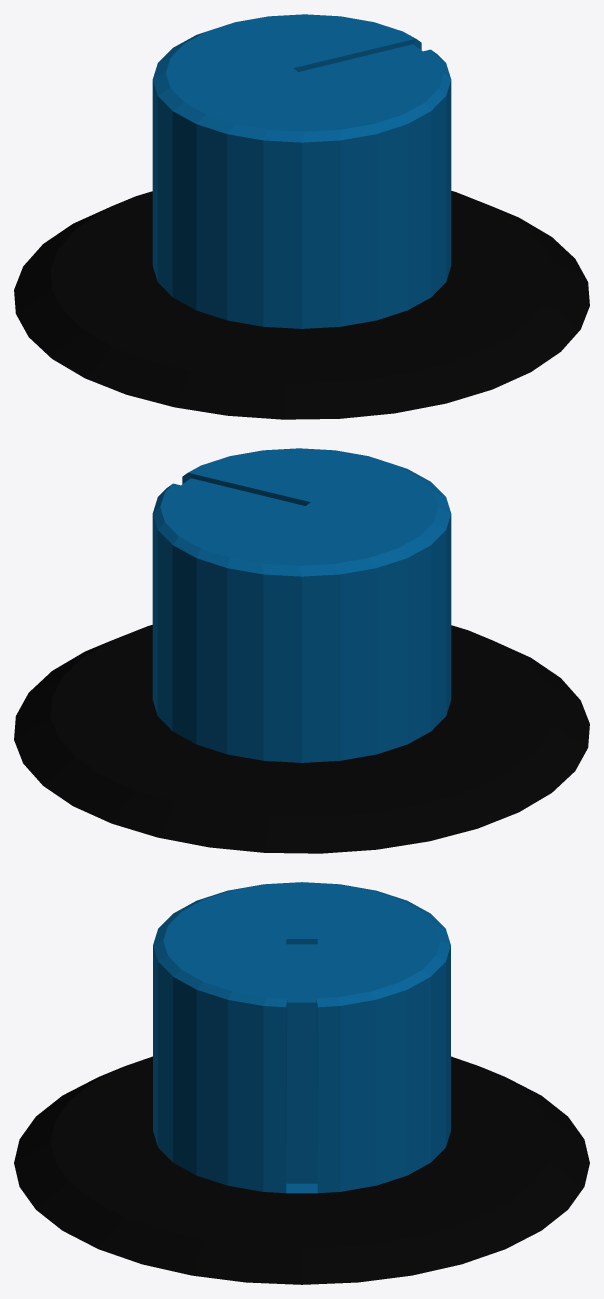
Rendered from props.fbx_reg5.fbx.
The picture shows the model from 3 angles, top to bottom: view 1: azimuth 30°, elevation 25°; view 2: azimuth 150°, elevation 25°; view 3: azimuth 270°, elevation 25°; orthographic projection.
Visible parts, largest first — view 1: Cylinder.014, Circle.030; view 2: Cylinder.014, Circle.030; view 3: Cylinder.014, Circle.030.
Part boxes in pixels (<box>): Cylinder.014: <box>152,14,451,328</box>; Circle.030: <box>14,191,589,419</box>; Cylinder.014: <box>152,448,451,762</box>; Circle.030: <box>14,625,589,853</box>; Cylinder.014: <box>153,882,450,1193</box>; Circle.030: <box>14,1056,589,1284</box>.
Size of the model in its own units: 0.6411 by 0.2748 by 0.6411.
